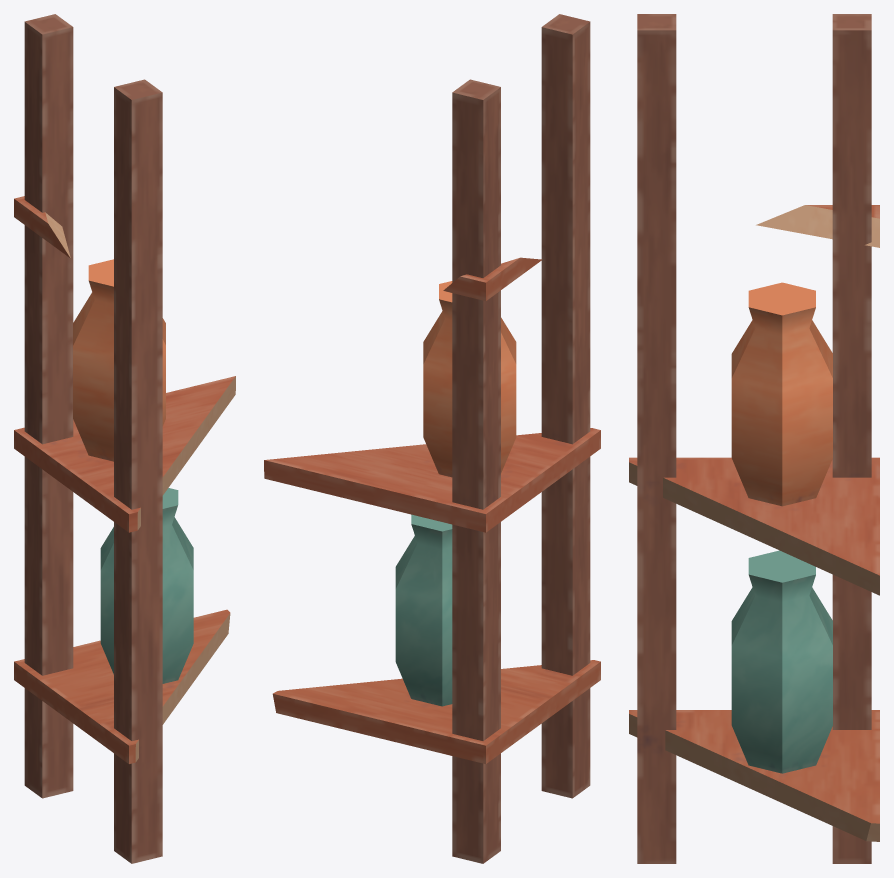
Rendered from pot_rack_s06.fbx.
3 views of the same model, side by side, from view 1: azimuth 30°, elevation 25°; view 2: azimuth 150°, elevation 25°; view 3: azimuth 270°, elevation 25° (orthographic). The views are drawn at different scales.
Parts seen in each view (by area): view 1: pot_rack_s06; view 2: pot_rack_s06; view 3: pot_rack_s06.
Boxes of the visible parts, x1,y1,x2,y2 form: pot_rack_s06: [14, 14, 235, 863]; pot_rack_s06: [264, 14, 600, 863]; pot_rack_s06: [629, 14, 879, 863].
Bounding box in the file's own units: 2.01 × 6.6 × 1.8.
